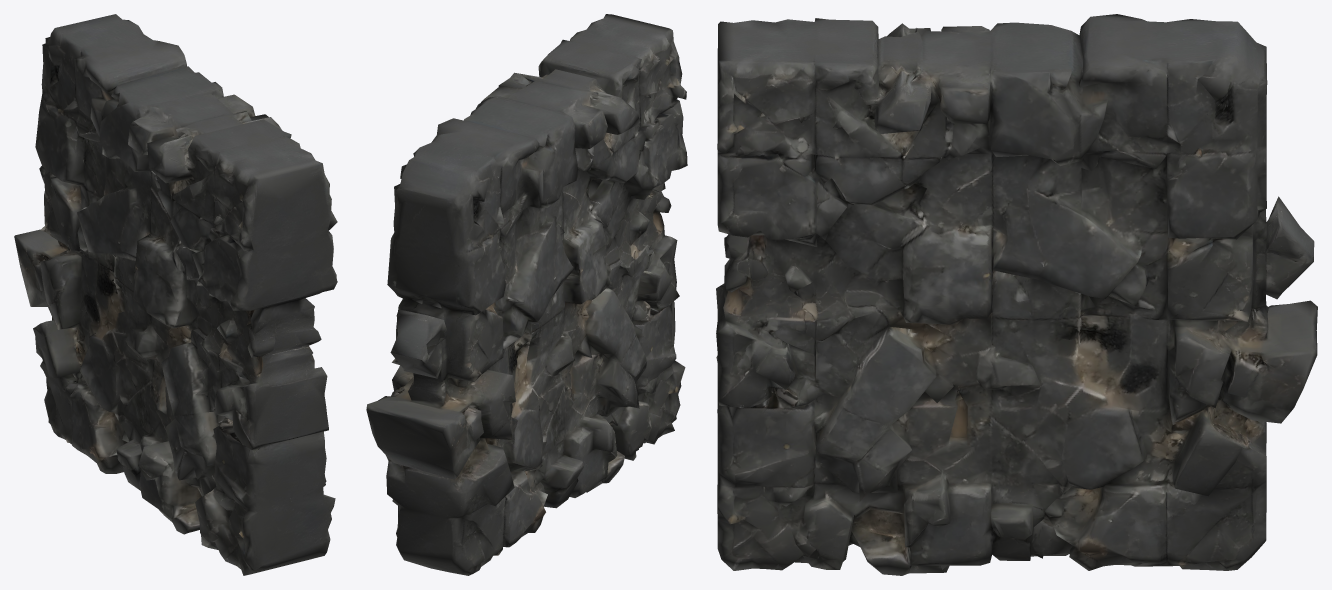
The model's file is floor_old.glb.
The picture shows the model from 3 angles, left to right: view 1: azimuth 30°, elevation 25°; view 2: azimuth 150°, elevation 25°; view 3: azimuth 270°, elevation 25°; orthographic projection. The views are drawn at different scales.
Visible parts, largest first — view 1: tripo_node_540ba20b-8b43-4a28-8198-78e72f6bbc43; view 2: tripo_node_540ba20b-8b43-4a28-8198-78e72f6bbc43; view 3: tripo_node_540ba20b-8b43-4a28-8198-78e72f6bbc43.
Boxes of the visible parts, x1=… form: tripo_node_540ba20b-8b43-4a28-8198-78e72f6bbc43: x1=14, y1=14, x2=337, y2=575; tripo_node_540ba20b-8b43-4a28-8198-78e72f6bbc43: x1=366, y1=14, x2=687, y2=575; tripo_node_540ba20b-8b43-4a28-8198-78e72f6bbc43: x1=716, y1=14, x2=1317, y2=575.
Bounding box in the file's own units: 0.3035 × 0.9376 × 1.
1 material, 1 textured.
